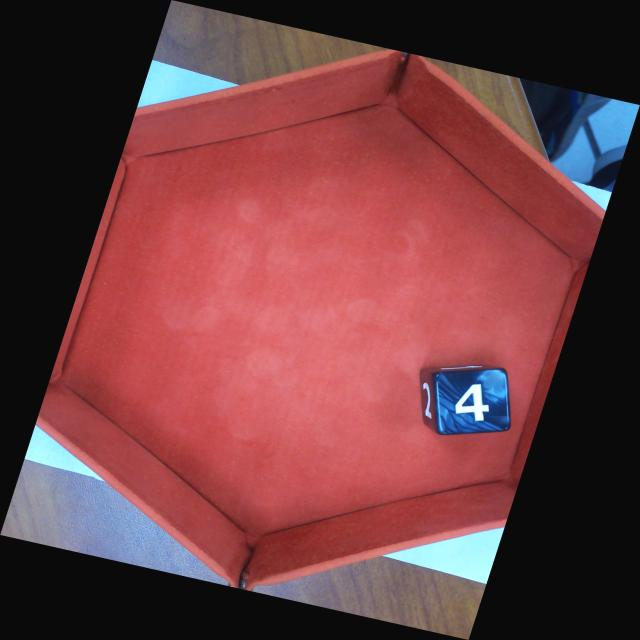dice: (436, 367, 511, 432)
